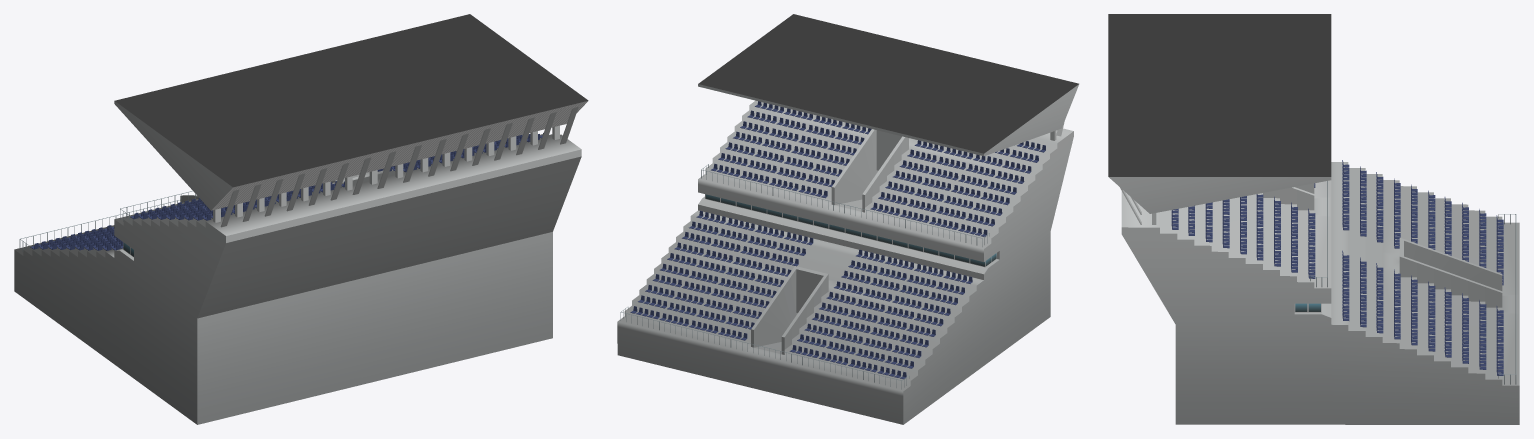
File: portimao_grandstands.FBX
3 views of the same model, side by side, from view 1: azimuth 30°, elevation 25°; view 2: azimuth 150°, elevation 25°; view 3: azimuth 270°, elevation 25° (orthographic). The views are drawn at different scales.
Parts seen in each view (by area): view 1: portimao_grandstands; view 2: portimao_grandstands; view 3: portimao_grandstands.
Boxes of the visible parts, x1,y1,x2,y2 form: portimao_grandstands: [14, 14, 588, 424]; portimao_grandstands: [617, 14, 1079, 424]; portimao_grandstands: [1108, 14, 1519, 424].
Size of the model in its own units: 1345 by 954 by 1433.
